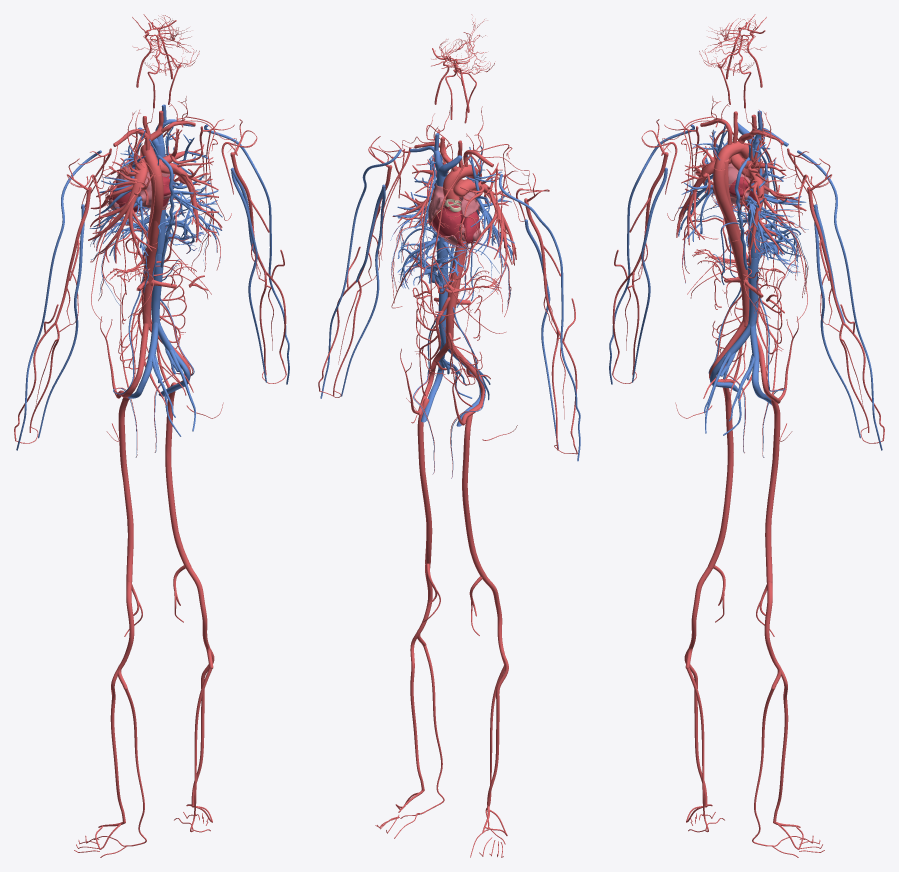
File: circulatory.glb
3 views of the same model, side by side, from view 1: azimuth 30°, elevation 25°; view 2: azimuth 150°, elevation 25°; view 3: azimuth 330°, elevation 25° (orthographic). The views are drawn at different scales.
Parts seen in each view (by area): view 1: FJ2074, FJ2143, FJ3427, FJ2220, FJ2272, FJ2218, FJ2270, FJ2065, FJ2086, FJ2170, FJ2130, FJ3659; view 2: FJ2074, FJ2143, FJ2220, FJ2272, FJ2423, FJ2270, FJ2130, FJ2065, FJ2218, FJ1932, FJ2404; view 3: FJ2143, FJ2074, FJ3427, FJ2272, FJ2220, FJ2218, FJ2270, FJ2130, FJ2170, FJ3659, FJ2086, FJ2065.
Part boxes in pixels (left/top/right/bottom): FJ2074: left=118, top=397, right=133, bottom=582; FJ2143: left=165, top=382, right=191, bottom=569; FJ3427: left=143, top=173, right=163, bottom=323; FJ2220: left=16, top=150, right=101, bottom=450; FJ2272: left=204, top=124, right=289, bottom=384; FJ2218: left=38, top=204, right=84, bottom=438; FJ2270: left=231, top=167, right=266, bottom=382; FJ2065: left=110, top=669, right=125, bottom=822; FJ2086: left=117, top=581, right=134, bottom=689; FJ2170: left=187, top=567, right=213, bottom=668; FJ2130: left=191, top=648, right=214, bottom=804; FJ3659: left=151, top=254, right=163, bottom=324; FJ2074: left=462, top=409, right=486, bottom=579; FJ2143: left=417, top=398, right=432, bottom=564; FJ2220: left=499, top=174, right=580, bottom=461; FJ2272: left=320, top=149, right=401, bottom=398; FJ2423: left=432, top=201, right=463, bottom=245; FJ2270: left=341, top=184, right=385, bottom=396; FJ2130: left=410, top=633, right=424, bottom=790; FJ2065: left=487, top=654, right=508, bottom=806; FJ2218: left=524, top=219, right=558, bottom=448; FJ1932: left=446, top=254, right=465, bottom=348; FJ2404: left=397, top=239, right=469, bottom=288; FJ2143: left=765, top=393, right=780, bottom=582; FJ2074: left=708, top=387, right=733, bottom=568; FJ3427: left=713, top=167, right=749, bottom=322; FJ2272: left=797, top=150, right=882, bottom=450; FJ2220: left=609, top=124, right=694, bottom=384; FJ2218: left=632, top=167, right=667, bottom=382; FJ2270: left=814, top=204, right=860, bottom=438; FJ2130: left=773, top=669, right=788, bottom=822; FJ2170: left=764, top=582, right=781, bottom=689; FJ3659: left=748, top=256, right=759, bottom=327; FJ2086: left=685, top=566, right=712, bottom=668; FJ2065: left=684, top=648, right=707, bottom=804.
Bounding box in the file's own units: 55.9 × 165 × 21.33.
